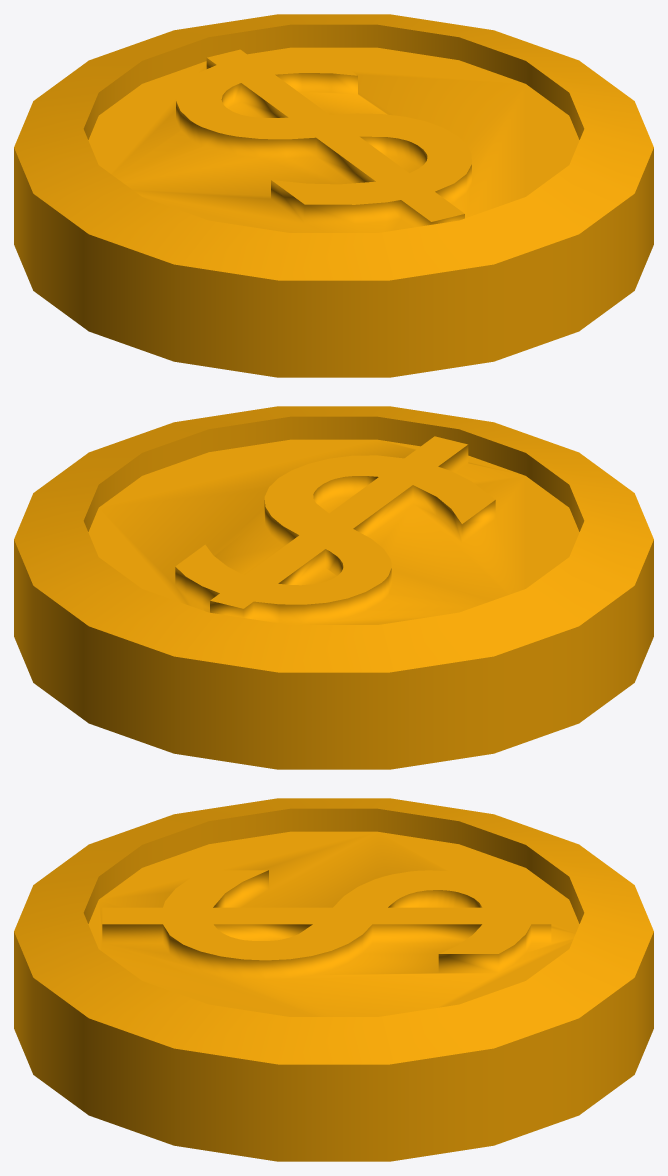
The model's file is Coin_Model.glb.
3 renders of one model, top to bottom at view 1: azimuth 30°, elevation 25°; view 2: azimuth 150°, elevation 25°; view 3: azimuth 270°, elevation 25°, orthographic.
Visible parts, largest first — view 1: Coin; view 2: Coin; view 3: Coin.
Part boxes in pixels (x1,y1,x2,y2): Coin: [14, 14, 653, 377]; Coin: [14, 406, 653, 769]; Coin: [14, 798, 653, 1161].
Bounding box in the file's own units: 1.97 × 0.4578 × 2.
